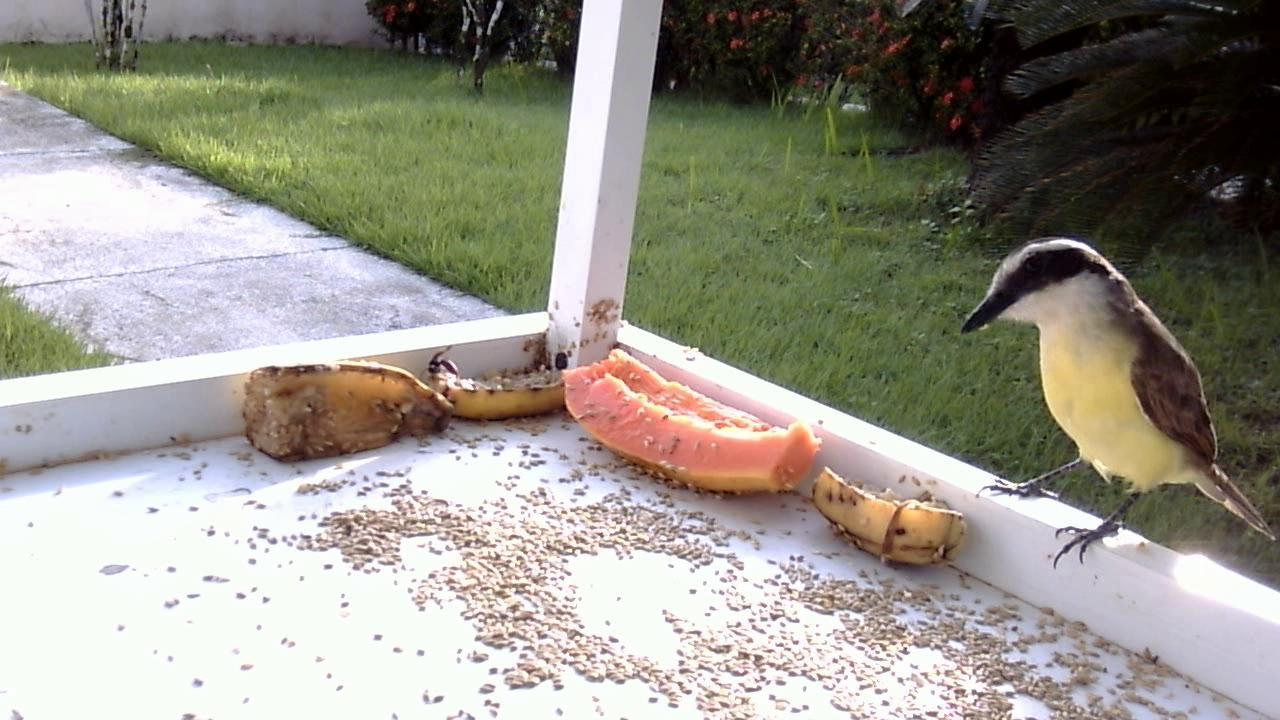bem_te_vi: (948, 230, 1277, 595)
